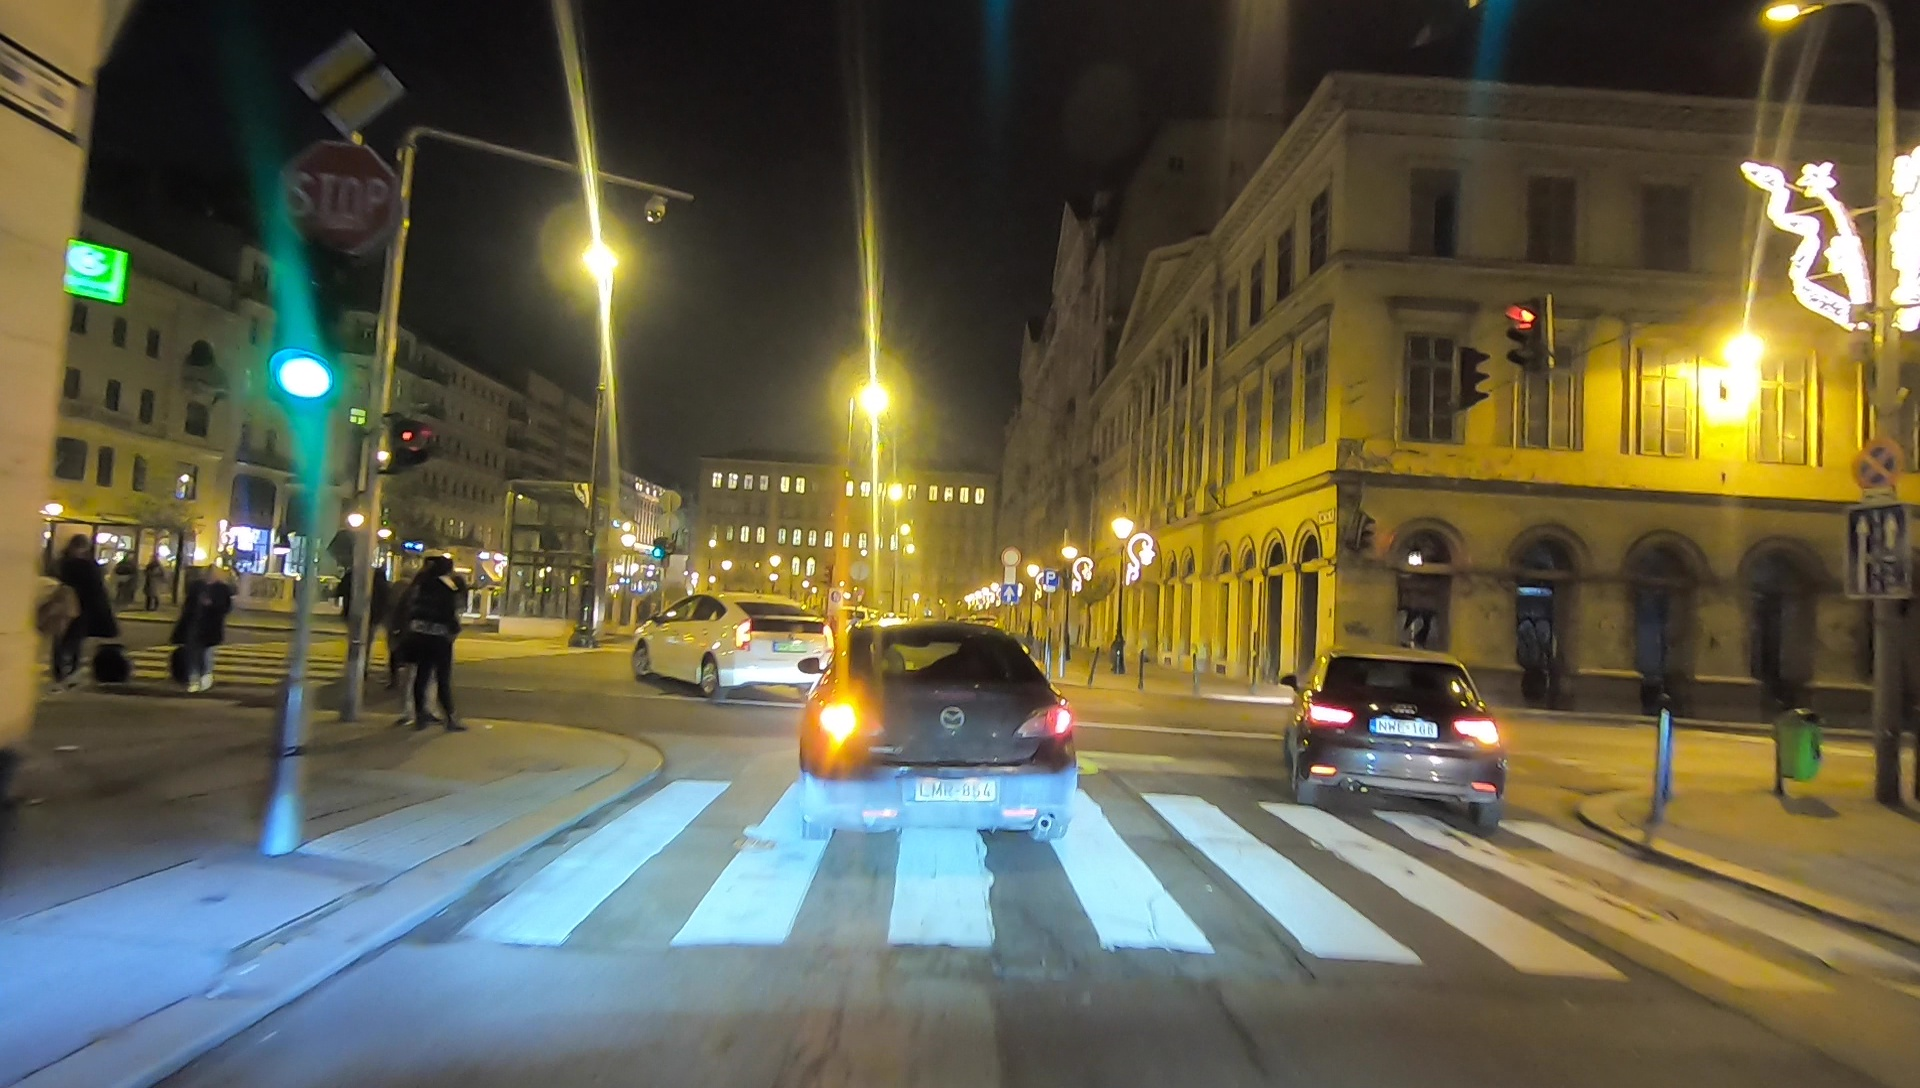person: (399, 556, 464, 736), (45, 530, 106, 691), (178, 563, 230, 699), (339, 556, 384, 689)
